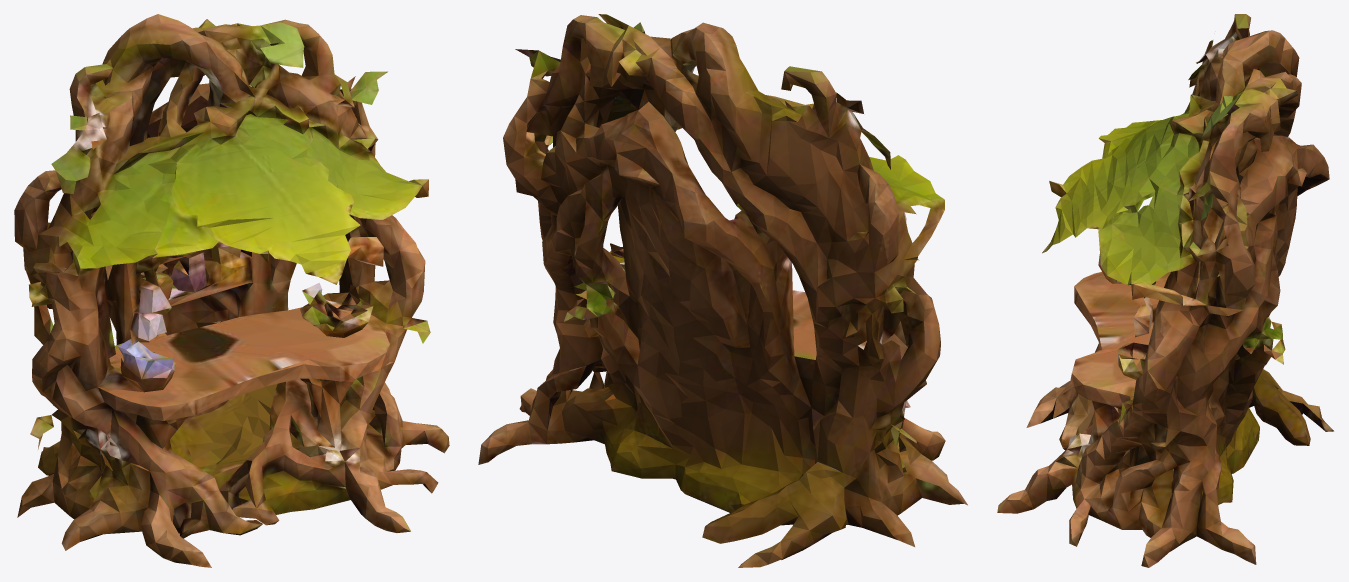
File: fairy_root_market_1117.glb
3 renders of one model, left to right at view 1: azimuth 30°, elevation 25°; view 2: azimuth 150°, elevation 25°; view 3: azimuth 270°, elevation 25°, orthographic. The views are drawn at different scales.
Visible parts, largest first — view 1: geometry_0; view 2: geometry_0; view 3: geometry_0.
Part boxes in pixels (bbox=[...]): geometry_0: bbox=[14, 14, 449, 567]; geometry_0: bbox=[478, 14, 967, 567]; geometry_0: bbox=[997, 14, 1333, 567].
Bounding box in the file's own units: 0.9288 × 1 × 0.7045.
1 material, 1 textured.
